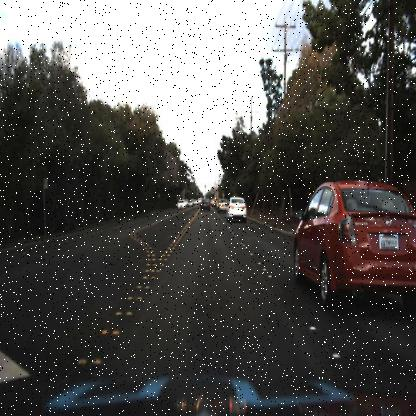car: (292, 176, 413, 305), (225, 196, 249, 226), (214, 196, 230, 216), (198, 196, 211, 215), (176, 196, 188, 212)
